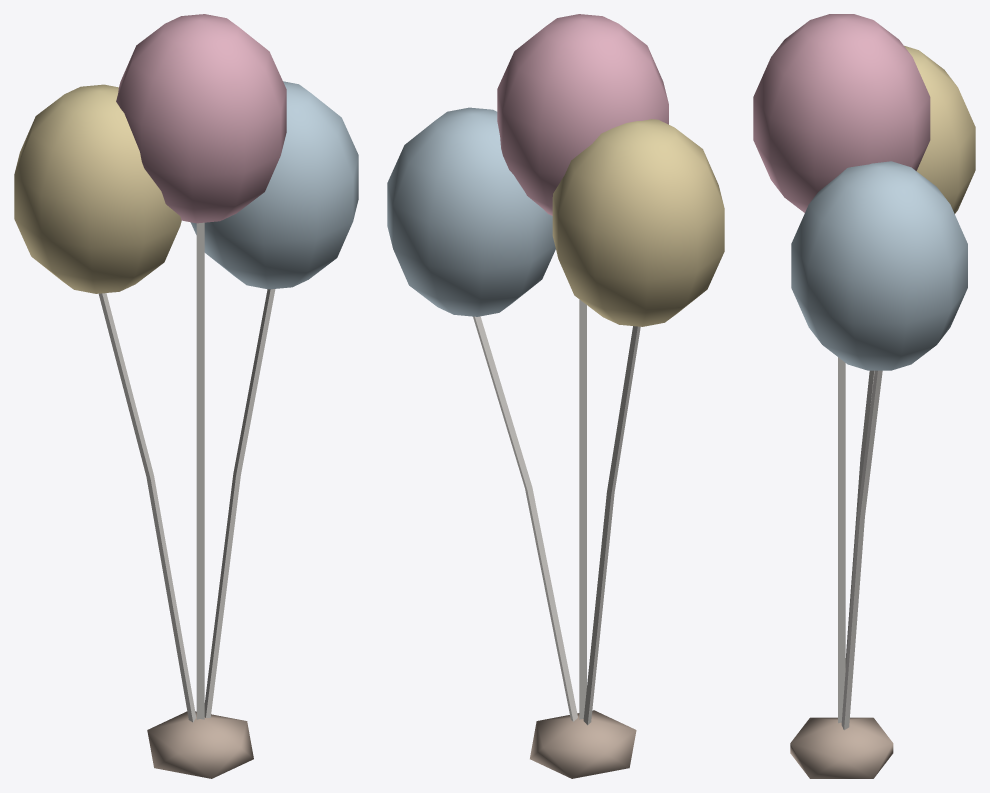
File: prop_balloon.glb
3 renders of one model, left to right at view 1: azimuth 30°, elevation 25°; view 2: azimuth 150°, elevation 25°; view 3: azimuth 270°, elevation 25°, orthographic.
Visible parts, largest first — view 1: prop_balloon; view 2: prop_balloon; view 3: prop_balloon.
Part boxes in pixels (left/top/right/bottom): prop_balloon: left=14, top=14, right=358, bottom=778; prop_balloon: left=387, top=14, right=724, bottom=778; prop_balloon: left=753, top=14, right=975, bottom=778.
Bounding box in the file's own units: 0.4825 × 1.1 × 0.294.
